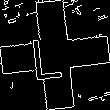L_N: (37, 29, 73, 81)
